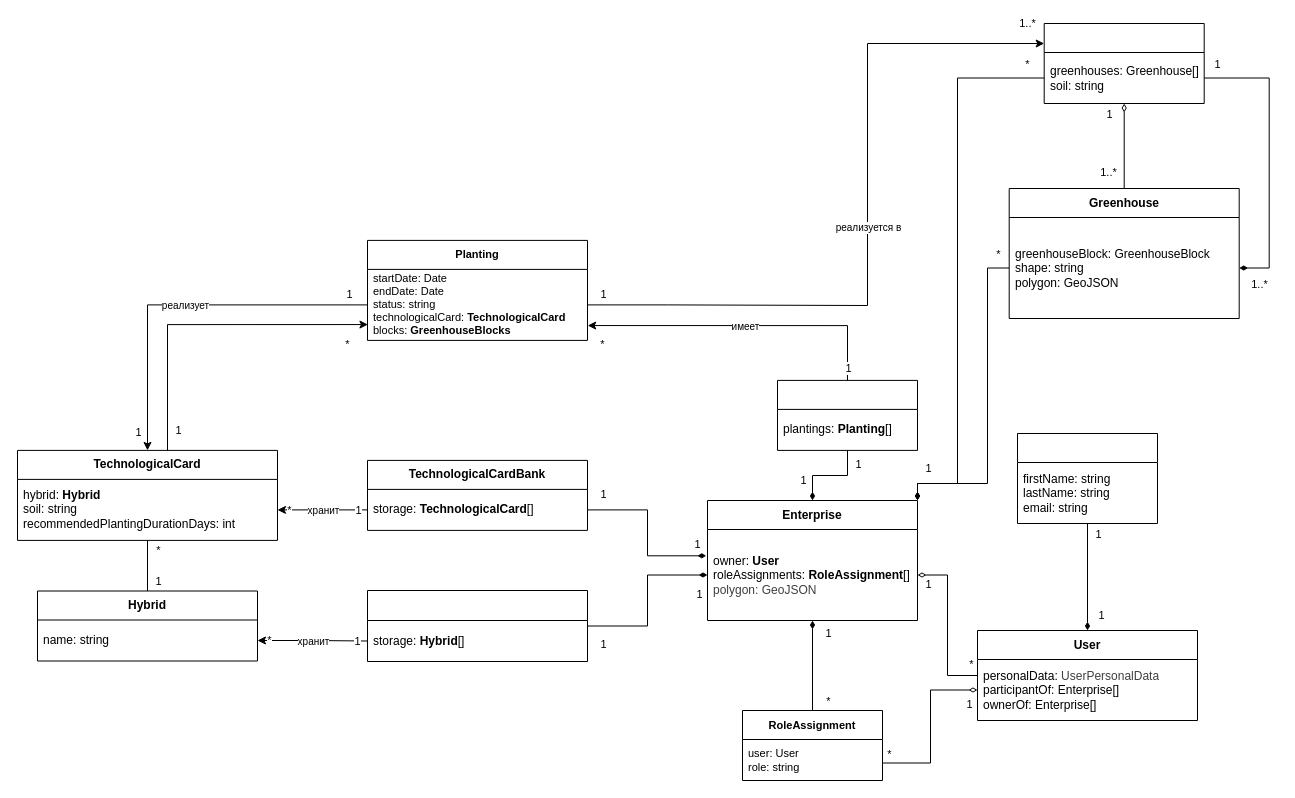
The diagram is 1295 pixels wide and 798 high, and some of its shapes have lost their labels. The box of each missing label's shape, as (x1, y1, x2, y2) in pixels:
GreenhouseBlock: (1043, 22, 1204, 104)
HybridBank: (366, 590, 588, 662)
PlantingTimeline: (776, 379, 918, 450)
UserPersonalData: (1016, 432, 1158, 524)
